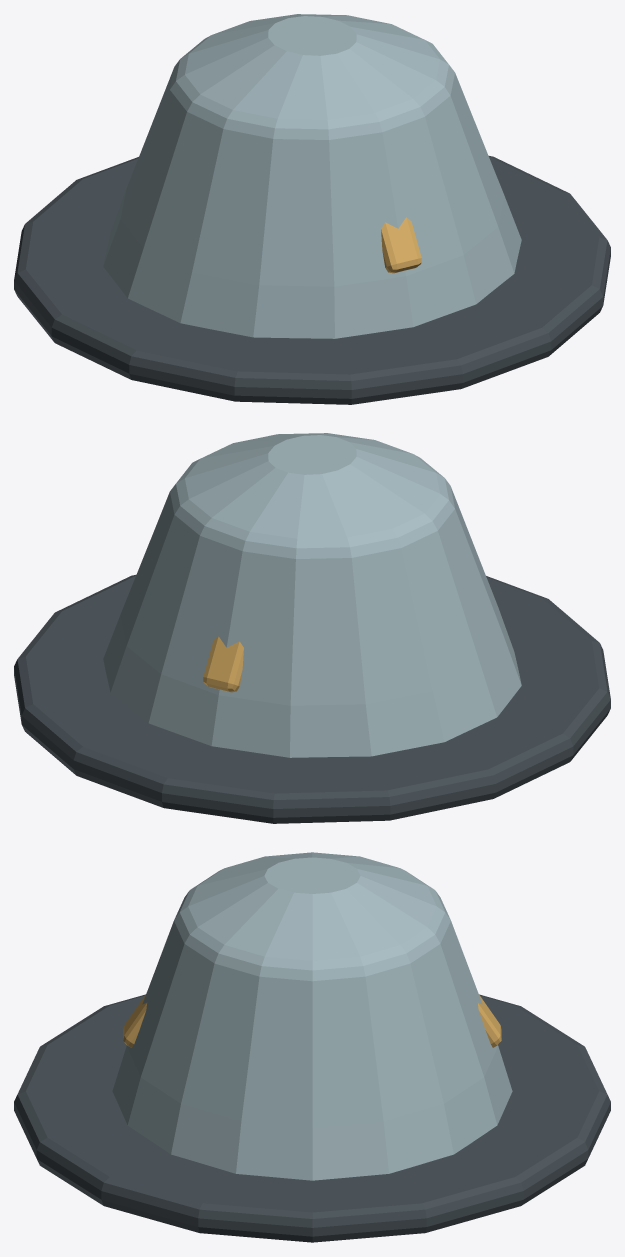
File: guard_helmet.glb
The picture shows the model from 3 angles, top to bottom: view 1: azimuth 30°, elevation 25°; view 2: azimuth 150°, elevation 25°; view 3: azimuth 270°, elevation 25°; orthographic projection.
Visible parts, largest first — view 1: guard_helmet__structure, guard_helmet__finish; view 2: guard_helmet__structure, guard_helmet__finish; view 3: guard_helmet__structure, guard_helmet__finish.
Part boxes in pixels (<box>): guard_helmet__structure: <box>14,14,610,404</box>; guard_helmet__finish: <box>381,217,421,273</box>; guard_helmet__structure: <box>14,433,610,823</box>; guard_helmet__finish: <box>203,636,243,692</box>; guard_helmet__structure: <box>14,852,610,1242</box>; guard_helmet__finish: <box>123,994,501,1047</box>.
Size of the model in its own units: 0.62 by 0.29 by 0.62.
